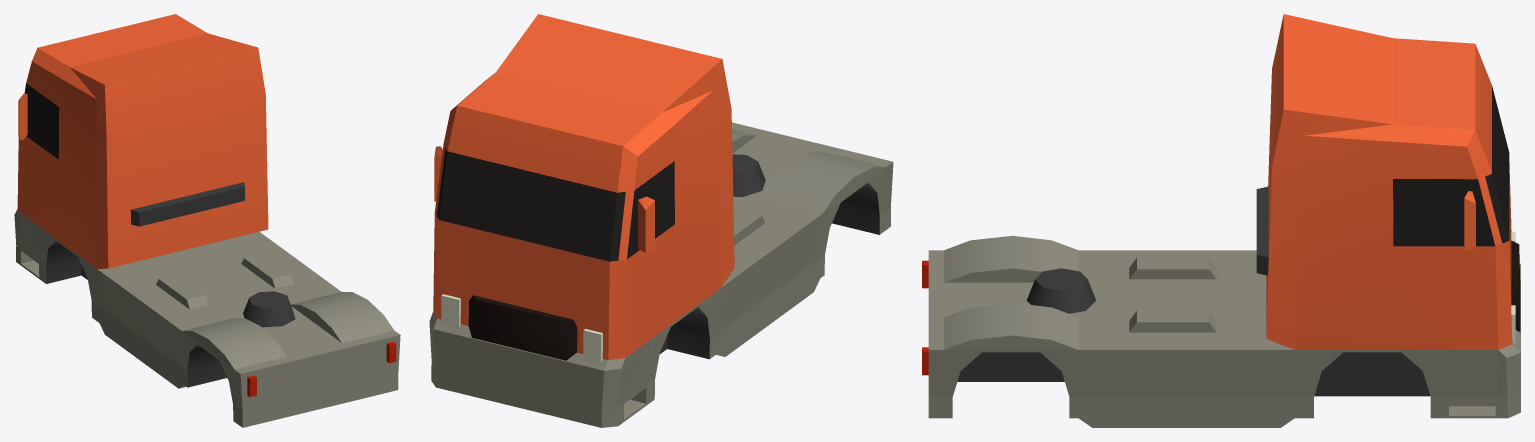
File: teamtruck.fbx
3 views of the same model, side by side, from view 1: azimuth 30°, elevation 25°; view 2: azimuth 150°, elevation 25°; view 3: azimuth 270°, elevation 25° (orthographic). The views are drawn at different scales.
Visible parts, largest first — view 1: teamtruck; view 2: teamtruck; view 3: teamtruck.
Boxes of the visible parts, left/top/right/bottom form: teamtruck: left=14, top=14, right=400, bottom=427; teamtruck: left=429, top=14, right=893, bottom=427; teamtruck: left=922, top=14, right=1520, bottom=427.
Bounding box in the file's own units: 234 × 521 × 305.
